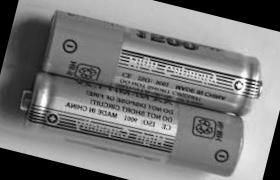battery: (1, 55, 254, 180), (30, 0, 274, 128)
